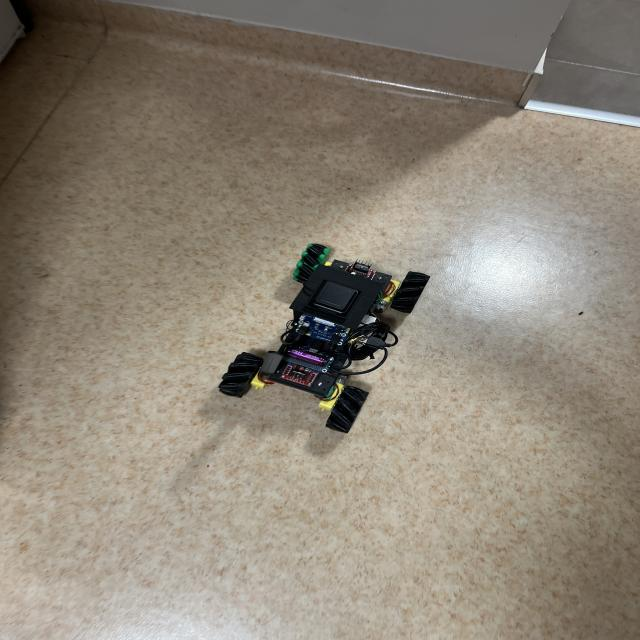robot: (219, 244, 429, 433)
